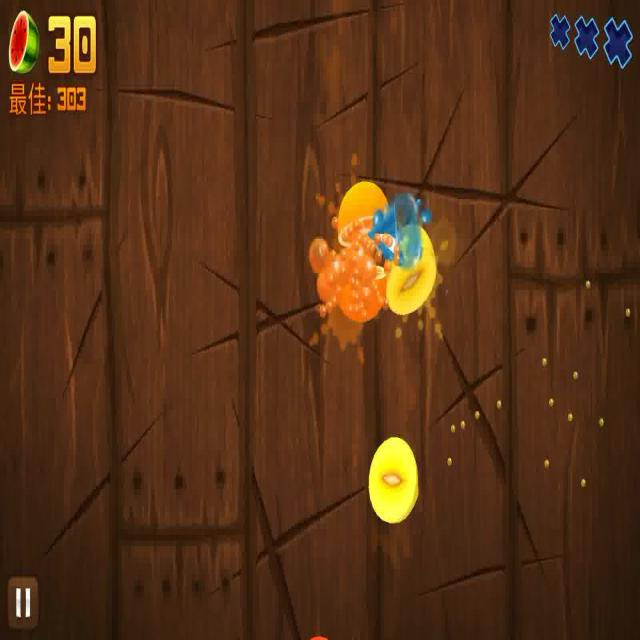fruit: (386, 220, 436, 318), (370, 434, 418, 522), (336, 182, 386, 252)
